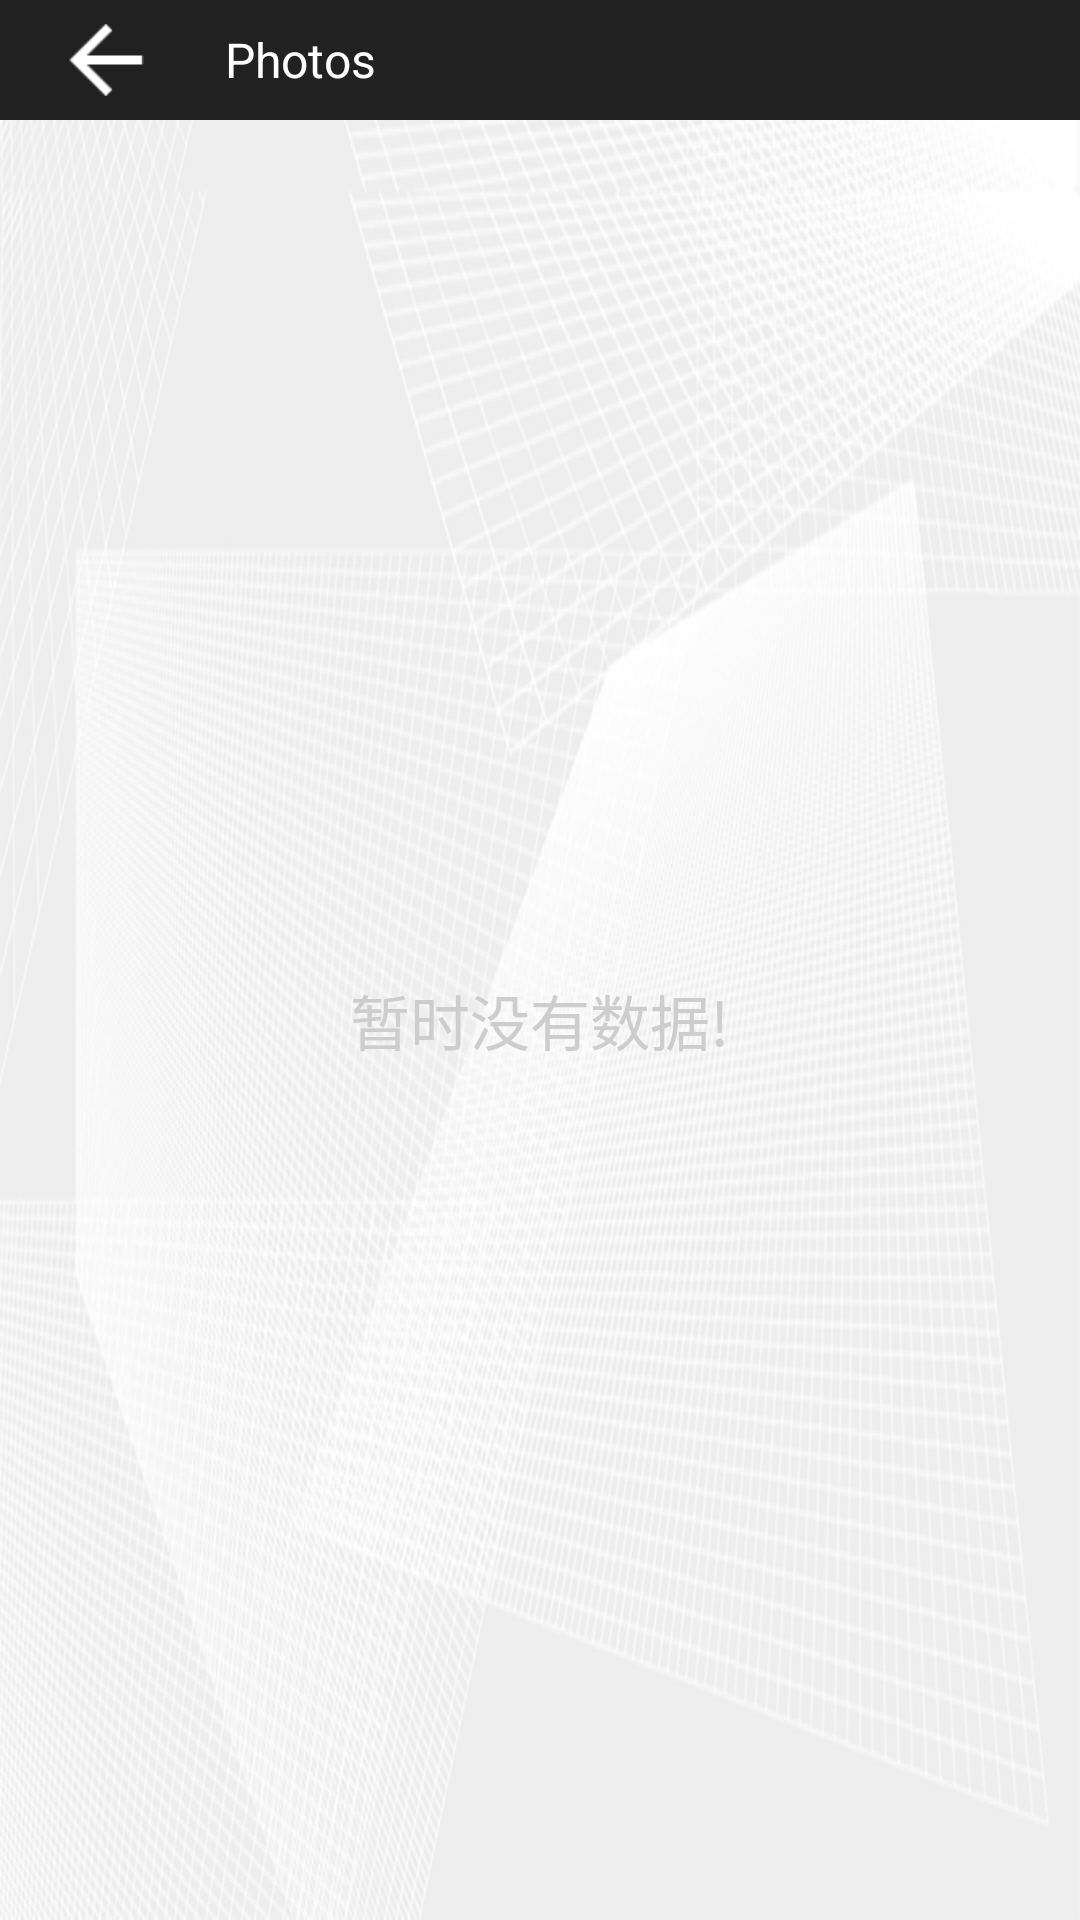

Icon click points for this 1080px x 1920px phone screenshot, format (x,y):
left back: (106,60)
